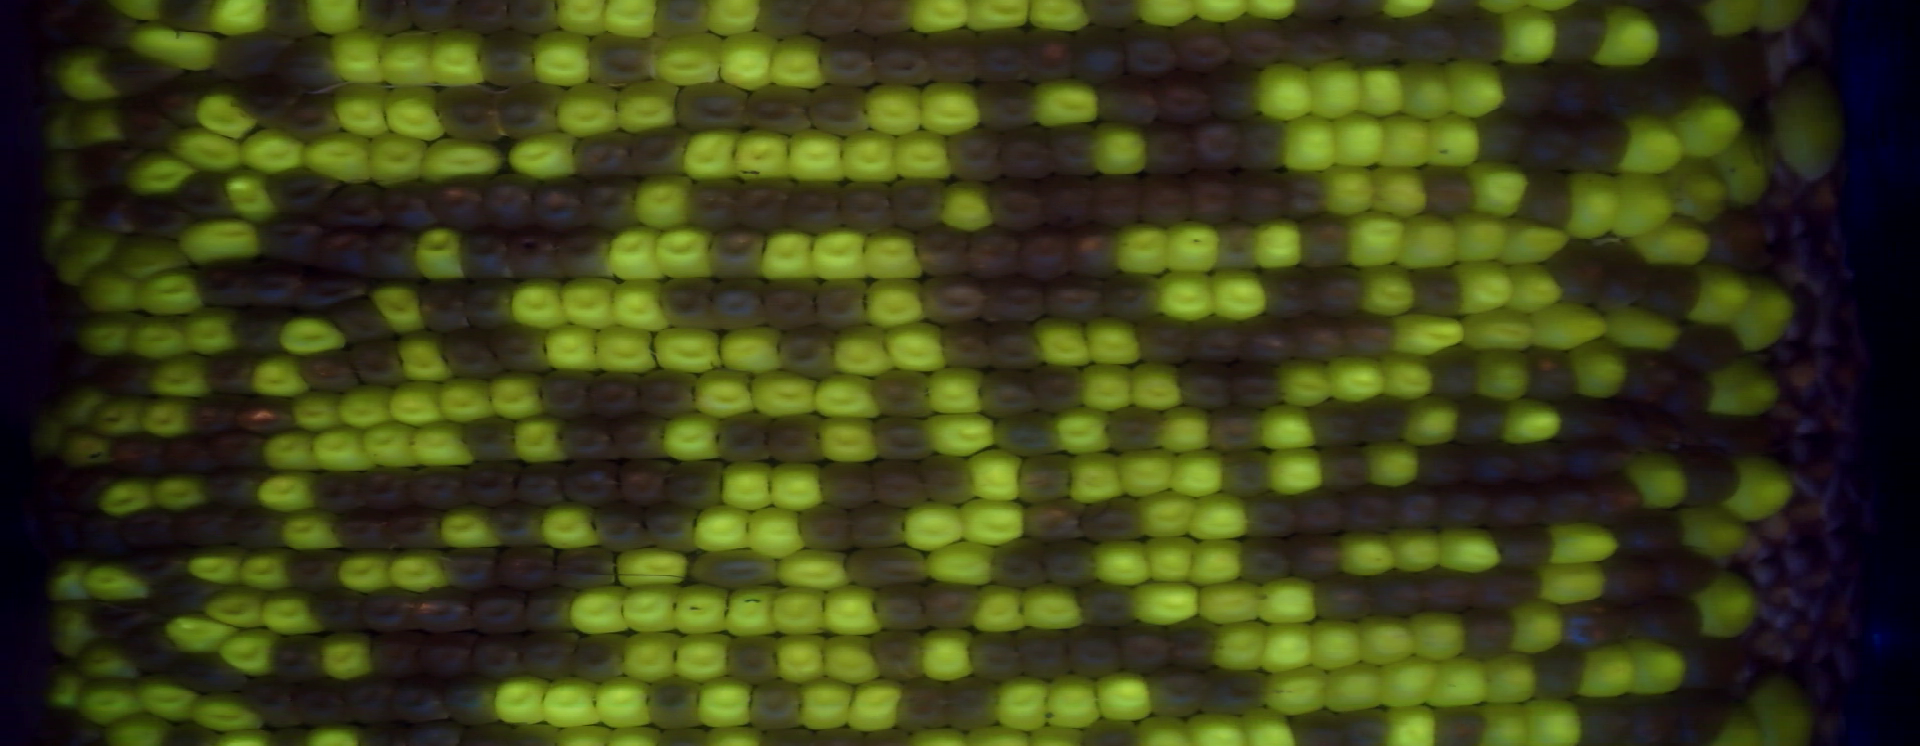fluorescent: (1764, 56, 1851, 187), (1663, 88, 1750, 162), (1727, 268, 1800, 353), (1556, 168, 1632, 247), (1718, 450, 1799, 522), (1587, 1, 1668, 73), (1704, 352, 1787, 423), (1657, 156, 1735, 229), (1609, 108, 1692, 176), (1690, 565, 1764, 641), (1742, 671, 1818, 746), (1607, 169, 1681, 243), (124, 18, 223, 73), (1671, 500, 1756, 562), (1685, 258, 1758, 330), (1630, 211, 1718, 269), (1598, 300, 1689, 355), (1464, 154, 1538, 222), (1709, 127, 1774, 203), (415, 135, 508, 187), (1562, 336, 1636, 402), (825, 318, 902, 381), (175, 216, 264, 269), (1441, 53, 1510, 122), (298, 127, 377, 187), (1528, 298, 1613, 354), (1495, 1, 1562, 71), (1449, 255, 1521, 320), (486, 668, 562, 729), (1371, 650, 1447, 712), (1622, 632, 1692, 698), (555, 78, 628, 141), (1473, 648, 1547, 710), (1113, 443, 1187, 506), (1202, 262, 1276, 325), (1340, 208, 1413, 271), (504, 125, 584, 183), (744, 365, 824, 423), (1011, 577, 1091, 635), (651, 28, 726, 89), (1250, 58, 1318, 125), (107, 230, 195, 282), (605, 219, 671, 288), (1396, 208, 1464, 274), (1622, 450, 1692, 514), (1029, 310, 1098, 375), (616, 577, 688, 639), (49, 43, 122, 104), (953, 491, 1032, 548), (1302, 55, 1368, 122), (1538, 518, 1622, 571), (381, 82, 451, 146), (1160, 217, 1229, 281), (629, 171, 700, 234), (1532, 557, 1614, 611), (813, 627, 887, 687), (857, 273, 932, 332), (713, 321, 789, 379), (651, 321, 727, 379), (1458, 305, 1545, 355), (689, 363, 762, 423), (1365, 160, 1438, 220), (163, 122, 245, 175), (855, 225, 928, 284), (612, 76, 687, 134), (588, 321, 662, 379), (651, 220, 718, 285), (835, 125, 902, 189), (785, 125, 852, 189), (527, 28, 595, 91), (811, 367, 887, 424), (1422, 652, 1498, 708), (1025, 75, 1101, 131), (806, 224, 876, 285), (1152, 265, 1222, 326), (913, 78, 984, 138), (880, 318, 951, 379), (609, 541, 696, 590), (895, 499, 967, 557), (253, 582, 327, 639), (922, 409, 1004, 461), (51, 222, 118, 285), (1086, 116, 1152, 180), (1392, 58, 1458, 121), (328, 78, 396, 141), (670, 578, 737, 641), (553, 271, 622, 332), (1573, 639, 1642, 701), (1109, 218, 1178, 279), (756, 225, 825, 285), (71, 677, 148, 731), (1431, 524, 1509, 578), (1191, 577, 1269, 631), (1389, 307, 1469, 359), (1319, 660, 1392, 717), (375, 24, 438, 89), (408, 220, 471, 285), (714, 29, 776, 96), (192, 82, 258, 145), (365, 129, 431, 191), (425, 27, 492, 88), (742, 502, 809, 563), (729, 125, 797, 185), (364, 278, 432, 338), (1082, 537, 1158, 590), (1276, 111, 1340, 175), (936, 175, 1002, 236), (606, 273, 672, 334), (922, 364, 996, 419), (1038, 671, 1104, 733), (1082, 311, 1149, 372), (767, 581, 834, 641), (617, 625, 684, 685), (1468, 345, 1536, 405), (1319, 162, 1386, 222), (771, 546, 856, 594), (133, 265, 208, 318), (404, 418, 479, 472), (1498, 214, 1572, 268), (921, 538, 997, 590), (1262, 663, 1335, 718), (1267, 354, 1340, 409), (765, 29, 827, 94), (864, 76, 926, 141), (820, 581, 887, 641), (591, 673, 658, 733), (771, 628, 838, 688), (189, 688, 269, 737), (536, 674, 605, 731), (1375, 347, 1444, 404), (1353, 261, 1422, 318), (1298, 615, 1368, 671), (1048, 402, 1118, 458), (432, 372, 503, 428), (396, 325, 458, 387), (680, 125, 743, 186), (915, 625, 980, 685), (1352, 58, 1412, 122), (72, 262, 144, 316), (1131, 575, 1204, 628), (1320, 352, 1392, 405), (692, 674, 758, 733), (1206, 616, 1272, 675), (504, 274, 572, 332), (121, 148, 198, 198), (198, 584, 276, 635), (1495, 394, 1569, 447), (1403, 608, 1472, 664), (1449, 211, 1517, 267), (1356, 436, 1425, 491), (235, 125, 310, 176), (1515, 695, 1589, 746), (965, 445, 1027, 506), (38, 599, 99, 661), (890, 125, 954, 185), (1329, 105, 1389, 169), (669, 628, 733, 687), (842, 675, 907, 734), (1505, 597, 1570, 655), (482, 365, 549, 423), (566, 581, 632, 638), (813, 412, 883, 465), (276, 307, 350, 358), (716, 453, 778, 514), (220, 165, 283, 225), (1371, 111, 1434, 171), (1500, 261, 1571, 314), (1139, 530, 1204, 588), (1164, 443, 1229, 501), (216, 624, 282, 680), (1133, 485, 1199, 541), (1422, 111, 1488, 168), (122, 311, 195, 363), (309, 424, 381, 475), (436, 501, 508, 552), (77, 559, 157, 605), (658, 409, 726, 463), (386, 543, 454, 597), (1092, 666, 1153, 726), (718, 583, 781, 641), (1262, 442, 1327, 499), (1400, 393, 1464, 450), (1074, 359, 1139, 415), (233, 541, 299, 597), (1356, 611, 1422, 666), (1065, 448, 1131, 503), (1255, 399, 1322, 453), (256, 426, 328, 477), (795, 675, 855, 735), (331, 28, 392, 87), (1249, 216, 1310, 274), (278, 503, 348, 555), (1381, 523, 1451, 575), (358, 418, 421, 474), (1185, 533, 1250, 588), (71, 635, 142, 685), (538, 499, 604, 552), (689, 501, 756, 555), (1333, 523, 1400, 577), (1255, 575, 1322, 627), (245, 352, 317, 401), (1185, 491, 1254, 543), (969, 579, 1030, 637), (1258, 617, 1319, 675), (509, 412, 572, 468), (135, 675, 204, 725), (384, 379, 451, 431), (765, 458, 827, 514), (179, 304, 242, 358), (144, 355, 218, 402), (91, 473, 162, 521), (252, 468, 323, 516), (70, 311, 138, 360), (994, 673, 1051, 731), (69, 96, 129, 151), (1128, 360, 1188, 415), (32, 196, 76, 269), (51, 380, 110, 435), (318, 628, 380, 681), (334, 381, 397, 432), (169, 615, 244, 658), (1157, 401, 1215, 456), (93, 708, 176, 746), (333, 550, 400, 597), (1378, 701, 1446, 746), (181, 545, 249, 590), (1471, 699, 1536, 746), (1022, 1, 1104, 38), (42, 149, 96, 205), (36, 91, 82, 154), (135, 392, 198, 439), (288, 388, 349, 436), (42, 552, 94, 608), (202, 1, 273, 40), (86, 396, 149, 439), (1700, 1, 1767, 42), (58, 425, 118, 470), (42, 661, 92, 715), (1182, 710, 1258, 746), (595, 1, 662, 40), (960, 1, 1036, 36), (300, 1, 366, 40), (147, 472, 211, 512), (1234, 706, 1298, 746), (907, 1, 977, 38), (700, 1, 765, 40), (549, 1, 610, 40), (1131, 712, 1198, 746), (27, 408, 71, 458)
nonfluorescent: (1700, 26, 1779, 110), (1562, 105, 1641, 181), (1584, 234, 1656, 316), (1676, 635, 1764, 698), (491, 78, 576, 145), (1671, 442, 1749, 513), (1513, 107, 1588, 178), (500, 220, 576, 290), (1702, 201, 1773, 274), (1542, 236, 1608, 315), (1632, 49, 1703, 121), (433, 78, 506, 148), (1689, 413, 1802, 457), (1646, 1, 1719, 69), (1547, 1, 1614, 75), (582, 27, 658, 92), (1671, 315, 1753, 375), (1218, 10, 1296, 73), (1625, 589, 1709, 647), (672, 78, 754, 137), (740, 78, 818, 140), (96, 45, 191, 96), (165, 646, 258, 697), (915, 269, 996, 328), (261, 165, 347, 220), (987, 405, 1069, 463), (1638, 258, 1709, 325), (1608, 401, 1695, 454), (969, 24, 1042, 88), (842, 541, 938, 590), (588, 499, 662, 561), (655, 269, 726, 334), (553, 220, 624, 285), (911, 450, 989, 508), (1667, 682, 1739, 746), (863, 28, 937, 91), (516, 625, 587, 688), (111, 501, 190, 559), (1515, 162, 1576, 235), (1335, 9, 1408, 70), (1142, 665, 1222, 722), (1554, 597, 1635, 652), (1469, 100, 1536, 168), (1067, 21, 1131, 89), (1515, 342, 1584, 405), (1406, 261, 1476, 325), (1309, 570, 1386, 627), (691, 545, 789, 590), (771, 323, 842, 386), (633, 363, 704, 425), (762, 410, 834, 472), (1589, 551, 1668, 608), (1411, 562, 1489, 619), (1280, 12, 1354, 71), (309, 216, 376, 281), (936, 670, 1003, 735), (1548, 391, 1624, 448), (704, 271, 773, 334), (1614, 342, 1678, 410), (982, 173, 1052, 235), (778, 175, 849, 236), (547, 539, 624, 595), (269, 31, 342, 91), (942, 127, 1014, 187), (1548, 53, 1608, 125), (73, 597, 162, 646), (231, 671, 305, 730), (1422, 339, 1488, 404), (1011, 220, 1078, 285), (476, 28, 544, 92), (227, 75, 306, 129), (475, 168, 542, 232), (410, 273, 478, 337), (742, 674, 811, 736), (1226, 165, 1294, 228), (1150, 65, 1218, 127), (287, 671, 362, 728), (831, 176, 902, 236), (1600, 55, 1660, 126), (1195, 666, 1276, 719), (208, 29, 285, 85), (1032, 173, 1104, 232), (623, 121, 697, 179), (1092, 70, 1166, 127), (1074, 494, 1152, 548), (291, 267, 373, 318), (864, 367, 939, 424), (804, 78, 872, 141), (1288, 208, 1356, 271), (812, 29, 880, 91), (992, 121, 1060, 183), (1118, 20, 1187, 81), (318, 294, 398, 347), (888, 675, 958, 735), (162, 502, 245, 552), (1468, 565, 1551, 615), (883, 173, 954, 232), (433, 323, 504, 382), (1164, 15, 1237, 72), (191, 256, 268, 310), (1251, 258, 1318, 321), (1201, 60, 1269, 121), (1135, 118, 1204, 178), (605, 408, 675, 467), (1302, 261, 1371, 320), (482, 321, 553, 379), (816, 454, 887, 512), (864, 454, 936, 512), (264, 628, 336, 686), (1201, 398, 1272, 456), (552, 456, 624, 512), (356, 582, 429, 638), (1093, 269, 1171, 322), (1178, 165, 1242, 229), (1231, 111, 1293, 176), (360, 220, 426, 282), (1073, 578, 1146, 633), (934, 314, 1000, 375), (28, 502, 97, 561), (1184, 311, 1253, 370), (1570, 688, 1640, 746), (1455, 604, 1524, 661), (1041, 271, 1111, 328), (376, 175, 447, 232), (572, 171, 643, 228), (915, 578, 986, 635), (866, 581, 938, 636), (527, 171, 591, 233), (722, 632, 787, 693), (647, 673, 711, 734), (962, 224, 1029, 284), (705, 222, 771, 282), (1011, 625, 1078, 685), (1065, 621, 1131, 681), (1185, 113, 1251, 173), (809, 272, 877, 331), (144, 570, 225, 619), (1524, 641, 1592, 699), (1653, 548, 1727, 601), (1491, 60, 1559, 119), (611, 452, 680, 510), (1533, 475, 1608, 528), (59, 458, 129, 514), (982, 317, 1052, 374), (1621, 691, 1692, 746), (975, 274, 1051, 326), (1417, 158, 1479, 220), (1063, 218, 1125, 281), (918, 24, 980, 88), (910, 220, 975, 281), (1302, 394, 1367, 454), (1580, 472, 1652, 526), (437, 673, 503, 731), (986, 535, 1052, 594), (1131, 311, 1198, 370), (729, 174, 796, 232), (75, 184, 143, 240), (665, 457, 733, 513), (1610, 508, 1691, 556), (482, 499, 552, 554), (1449, 393, 1518, 448), (408, 583, 482, 635), (491, 541, 562, 595), (427, 171, 489, 234), (257, 209, 320, 271), (967, 627, 1030, 688), (1042, 118, 1104, 179), (868, 627, 933, 686), (1084, 171, 1149, 230), (682, 175, 748, 233), (973, 77, 1040, 135), (1011, 451, 1078, 508), (1213, 446, 1280, 503), (458, 412, 525, 468), (354, 461, 421, 517), (464, 586, 531, 642), (1368, 568, 1435, 625), (1336, 481, 1403, 538), (1103, 401, 1171, 457), (75, 140, 143, 195), (407, 459, 475, 514), (1491, 523, 1565, 575), (1015, 492, 1092, 541), (1478, 478, 1551, 529), (1352, 391, 1420, 446), (538, 364, 598, 426), (1021, 22, 1081, 85), (291, 345, 362, 398), (411, 628, 482, 681), (567, 628, 632, 686), (757, 278, 823, 334), (1398, 9, 1464, 65), (72, 1, 140, 56), (1337, 307, 1404, 363), (868, 412, 937, 465), (114, 621, 182, 675), (229, 390, 302, 440), (224, 500, 294, 552), (1273, 167, 1335, 227), (1135, 171, 1196, 232), (711, 409, 774, 468), (1449, 4, 1511, 62), (1114, 619, 1178, 676), (467, 628, 531, 685), (1283, 528, 1348, 584), (1284, 311, 1349, 367), (569, 127, 636, 183), (1035, 535, 1101, 590), (107, 428, 174, 481), (847, 499, 915, 552), (111, 96, 180, 148), (125, 187, 193, 240), (555, 415, 623, 468), (1176, 355, 1236, 415), (72, 505, 133, 563), (584, 365, 647, 423), (435, 545, 504, 597), (242, 258, 309, 312), (389, 673, 456, 726), (1026, 361, 1092, 415), (365, 628, 432, 681), (1510, 439, 1582, 488), (337, 669, 397, 728), (1164, 612, 1224, 671), (229, 305, 291, 361), (343, 336, 407, 391), (180, 391, 253, 439), (975, 364, 1038, 419), (279, 545, 349, 595), (302, 586, 372, 636), (1311, 439, 1376, 492), (1234, 314, 1300, 366), (203, 428, 276, 475), (382, 503, 451, 554), (328, 505, 397, 555), (1455, 440, 1531, 485), (152, 431, 225, 478), (456, 458, 522, 510), (1431, 479, 1498, 530), (508, 461, 576, 511), (1236, 533, 1297, 588), (1238, 488, 1300, 541), (280, 93, 345, 145), (315, 181, 384, 229), (1412, 441, 1478, 491), (204, 345, 262, 403), (456, 225, 516, 281), (310, 465, 372, 518), (96, 349, 160, 399), (522, 584, 587, 635), (1289, 485, 1349, 539), (1384, 479, 1445, 532), (148, 72, 204, 129), (800, 501, 855, 559), (174, 169, 235, 220), (1662, 367, 1723, 419), (1226, 361, 1288, 412), (1558, 439, 1630, 481), (642, 500, 700, 552), (1209, 216, 1261, 274), (200, 464, 266, 511), (38, 703, 109, 746), (647, 1, 714, 45), (465, 276, 520, 330), (800, 1, 869, 43), (125, 544, 195, 586), (28, 450, 77, 508), (1427, 702, 1491, 746), (34, 1, 87, 55), (751, 1, 818, 40), (1335, 704, 1396, 746), (500, 1, 563, 40), (855, 1, 918, 40), (400, 1, 470, 37), (1284, 708, 1349, 746), (1076, 1, 1149, 34), (153, 1, 218, 38), (451, 1, 514, 38), (355, 1, 418, 38), (262, 1, 320, 40), (1075, 717, 1144, 746), (397, 718, 468, 746), (456, 719, 525, 746), (156, 719, 220, 746), (351, 722, 418, 746), (504, 719, 563, 746), (654, 723, 713, 746), (1291, 1, 1343, 24), (258, 726, 312, 746)
